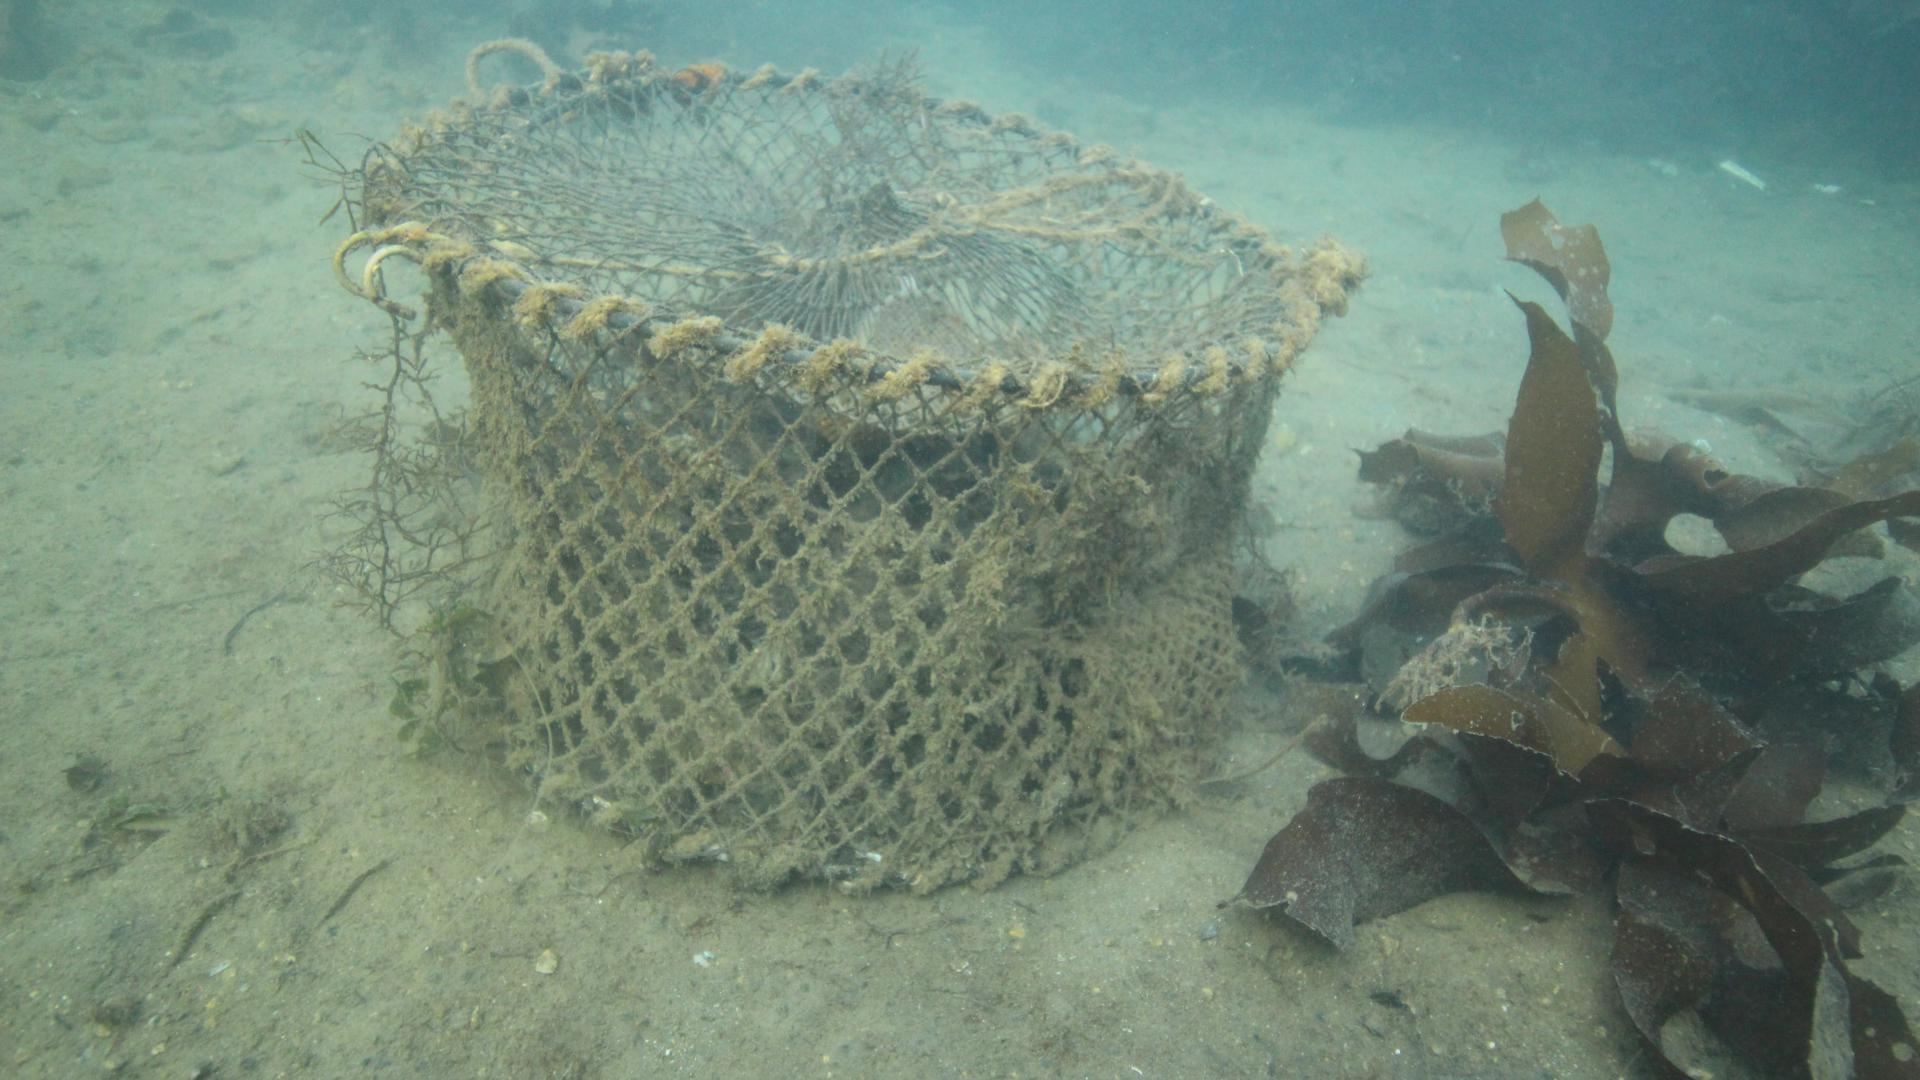circular fish trap: (360, 66, 1324, 891)
